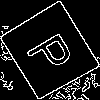P: (24, 25, 83, 79)
